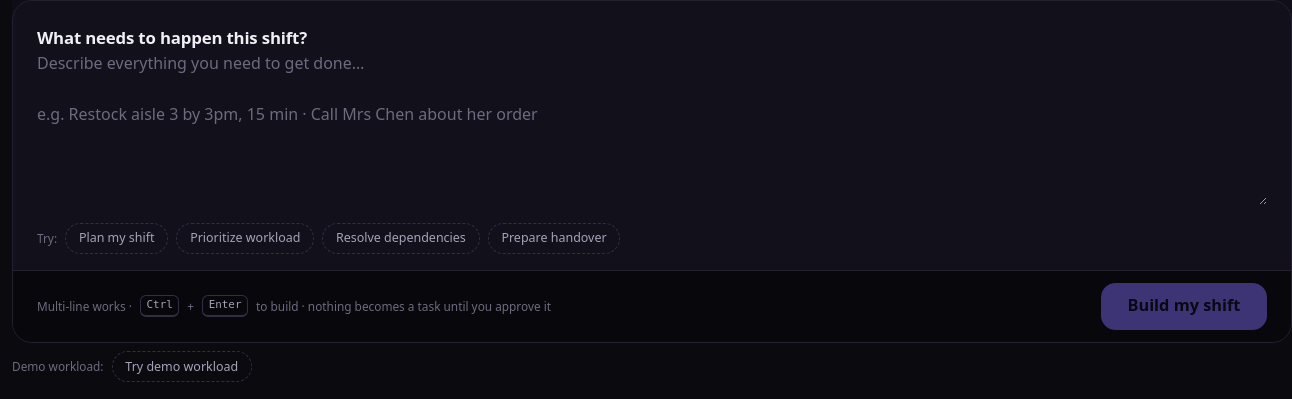
Test: IntakeView › disables extraction until there is text
This screenshot has width=1292, height=399.
Check: the button "Build my shift" is disabled, box top-left (1101, 282), bottom-right (1267, 330)
Type "Restock" into the text box labelled "What needs to happen this shift?" at coordinates (652, 128), box top-left (37, 51), bottom-right (1267, 205)
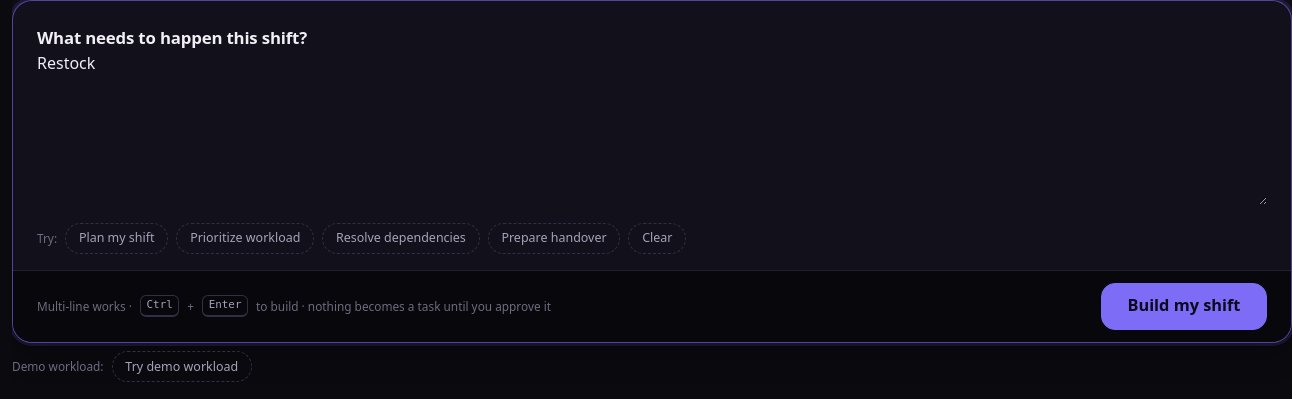
Check: the button "Build my shift" is enabled, box top-left (1101, 282), bottom-right (1267, 330)
